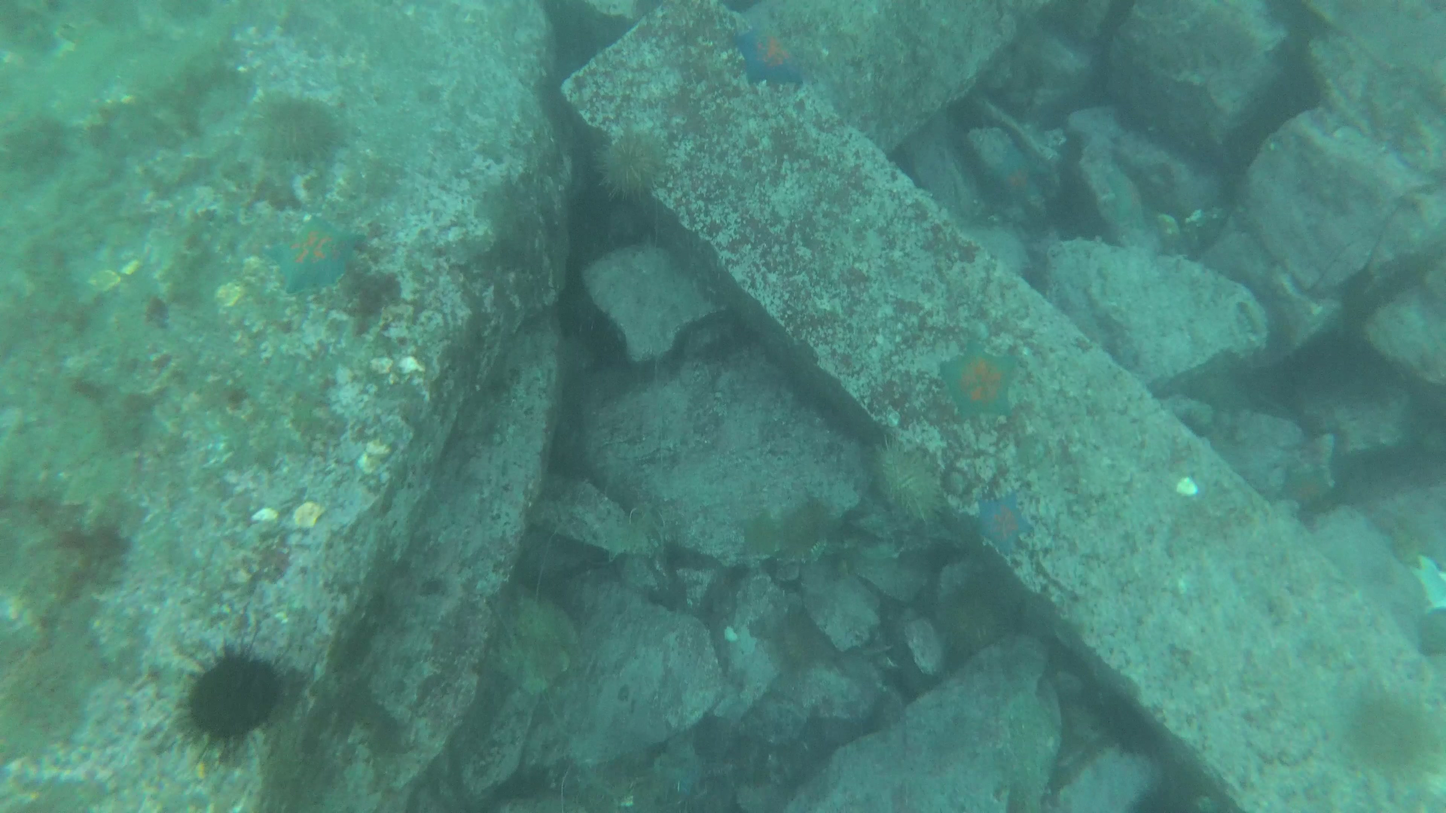holothurian: (267, 214, 357, 294), (941, 343, 1019, 419), (735, 19, 810, 90), (978, 485, 1030, 552), (991, 149, 1043, 207), (1104, 164, 1149, 225)
scallop: (82, 269, 129, 300), (288, 497, 322, 530), (212, 280, 246, 312)
starfish: (182, 655, 300, 731), (1348, 681, 1437, 773), (585, 135, 667, 193), (938, 588, 1001, 653), (878, 448, 931, 522), (257, 102, 336, 151)
